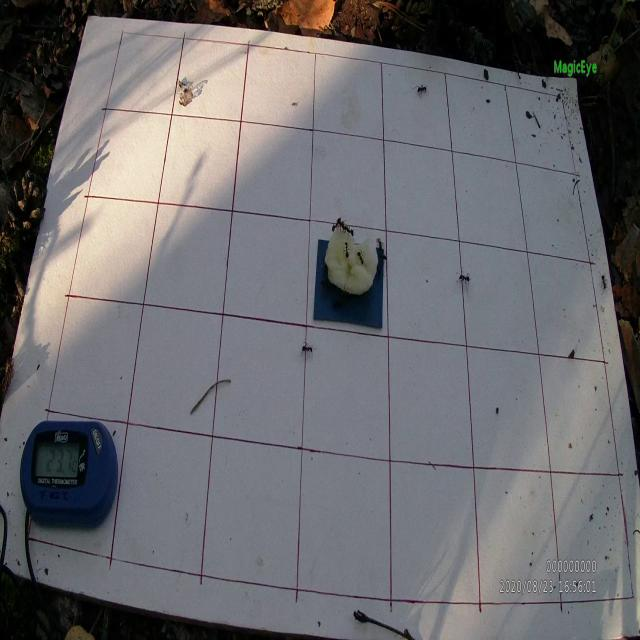Ant: (456, 272, 471, 292), (412, 85, 428, 98), (336, 217, 347, 235), (301, 341, 313, 356), (357, 249, 366, 265), (343, 241, 350, 260), (344, 226, 353, 240), (601, 274, 607, 293), (380, 253, 388, 266), (376, 242, 384, 253), (332, 221, 339, 232)
